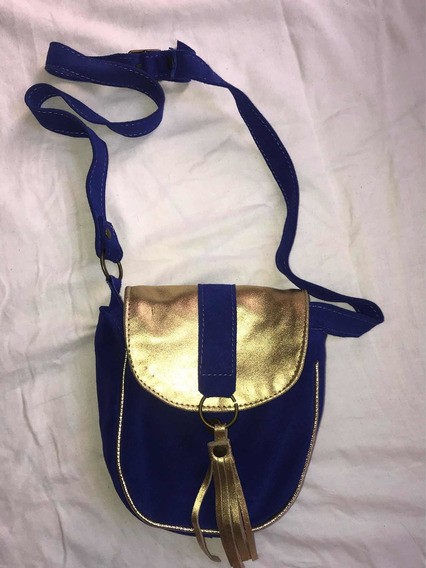cartera: (88, 276, 386, 542)
